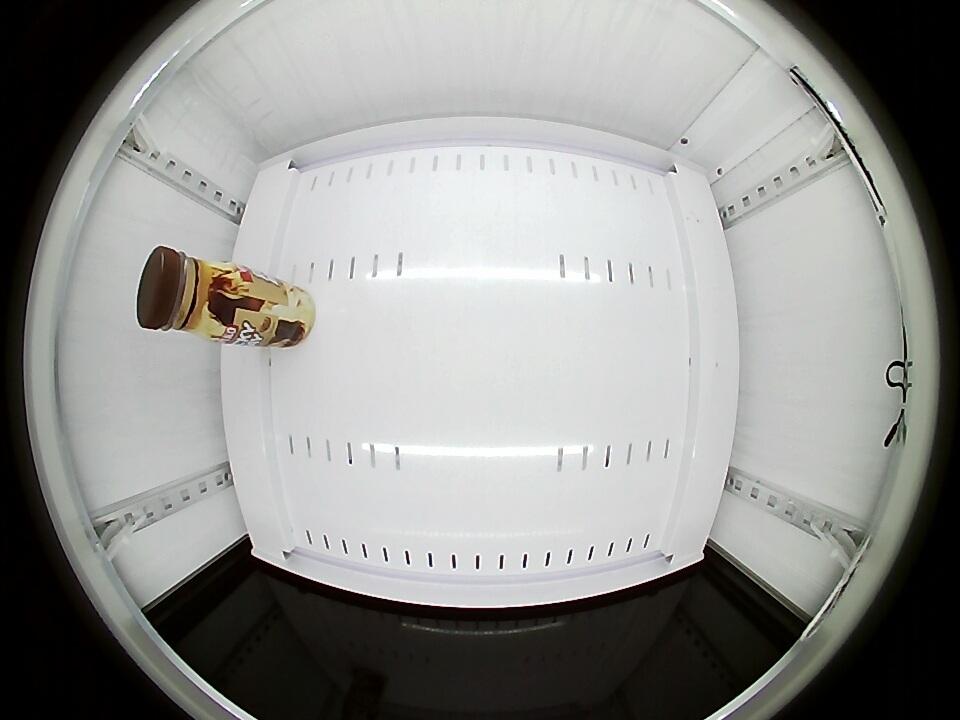lujikafei: (137, 245, 239, 341)
